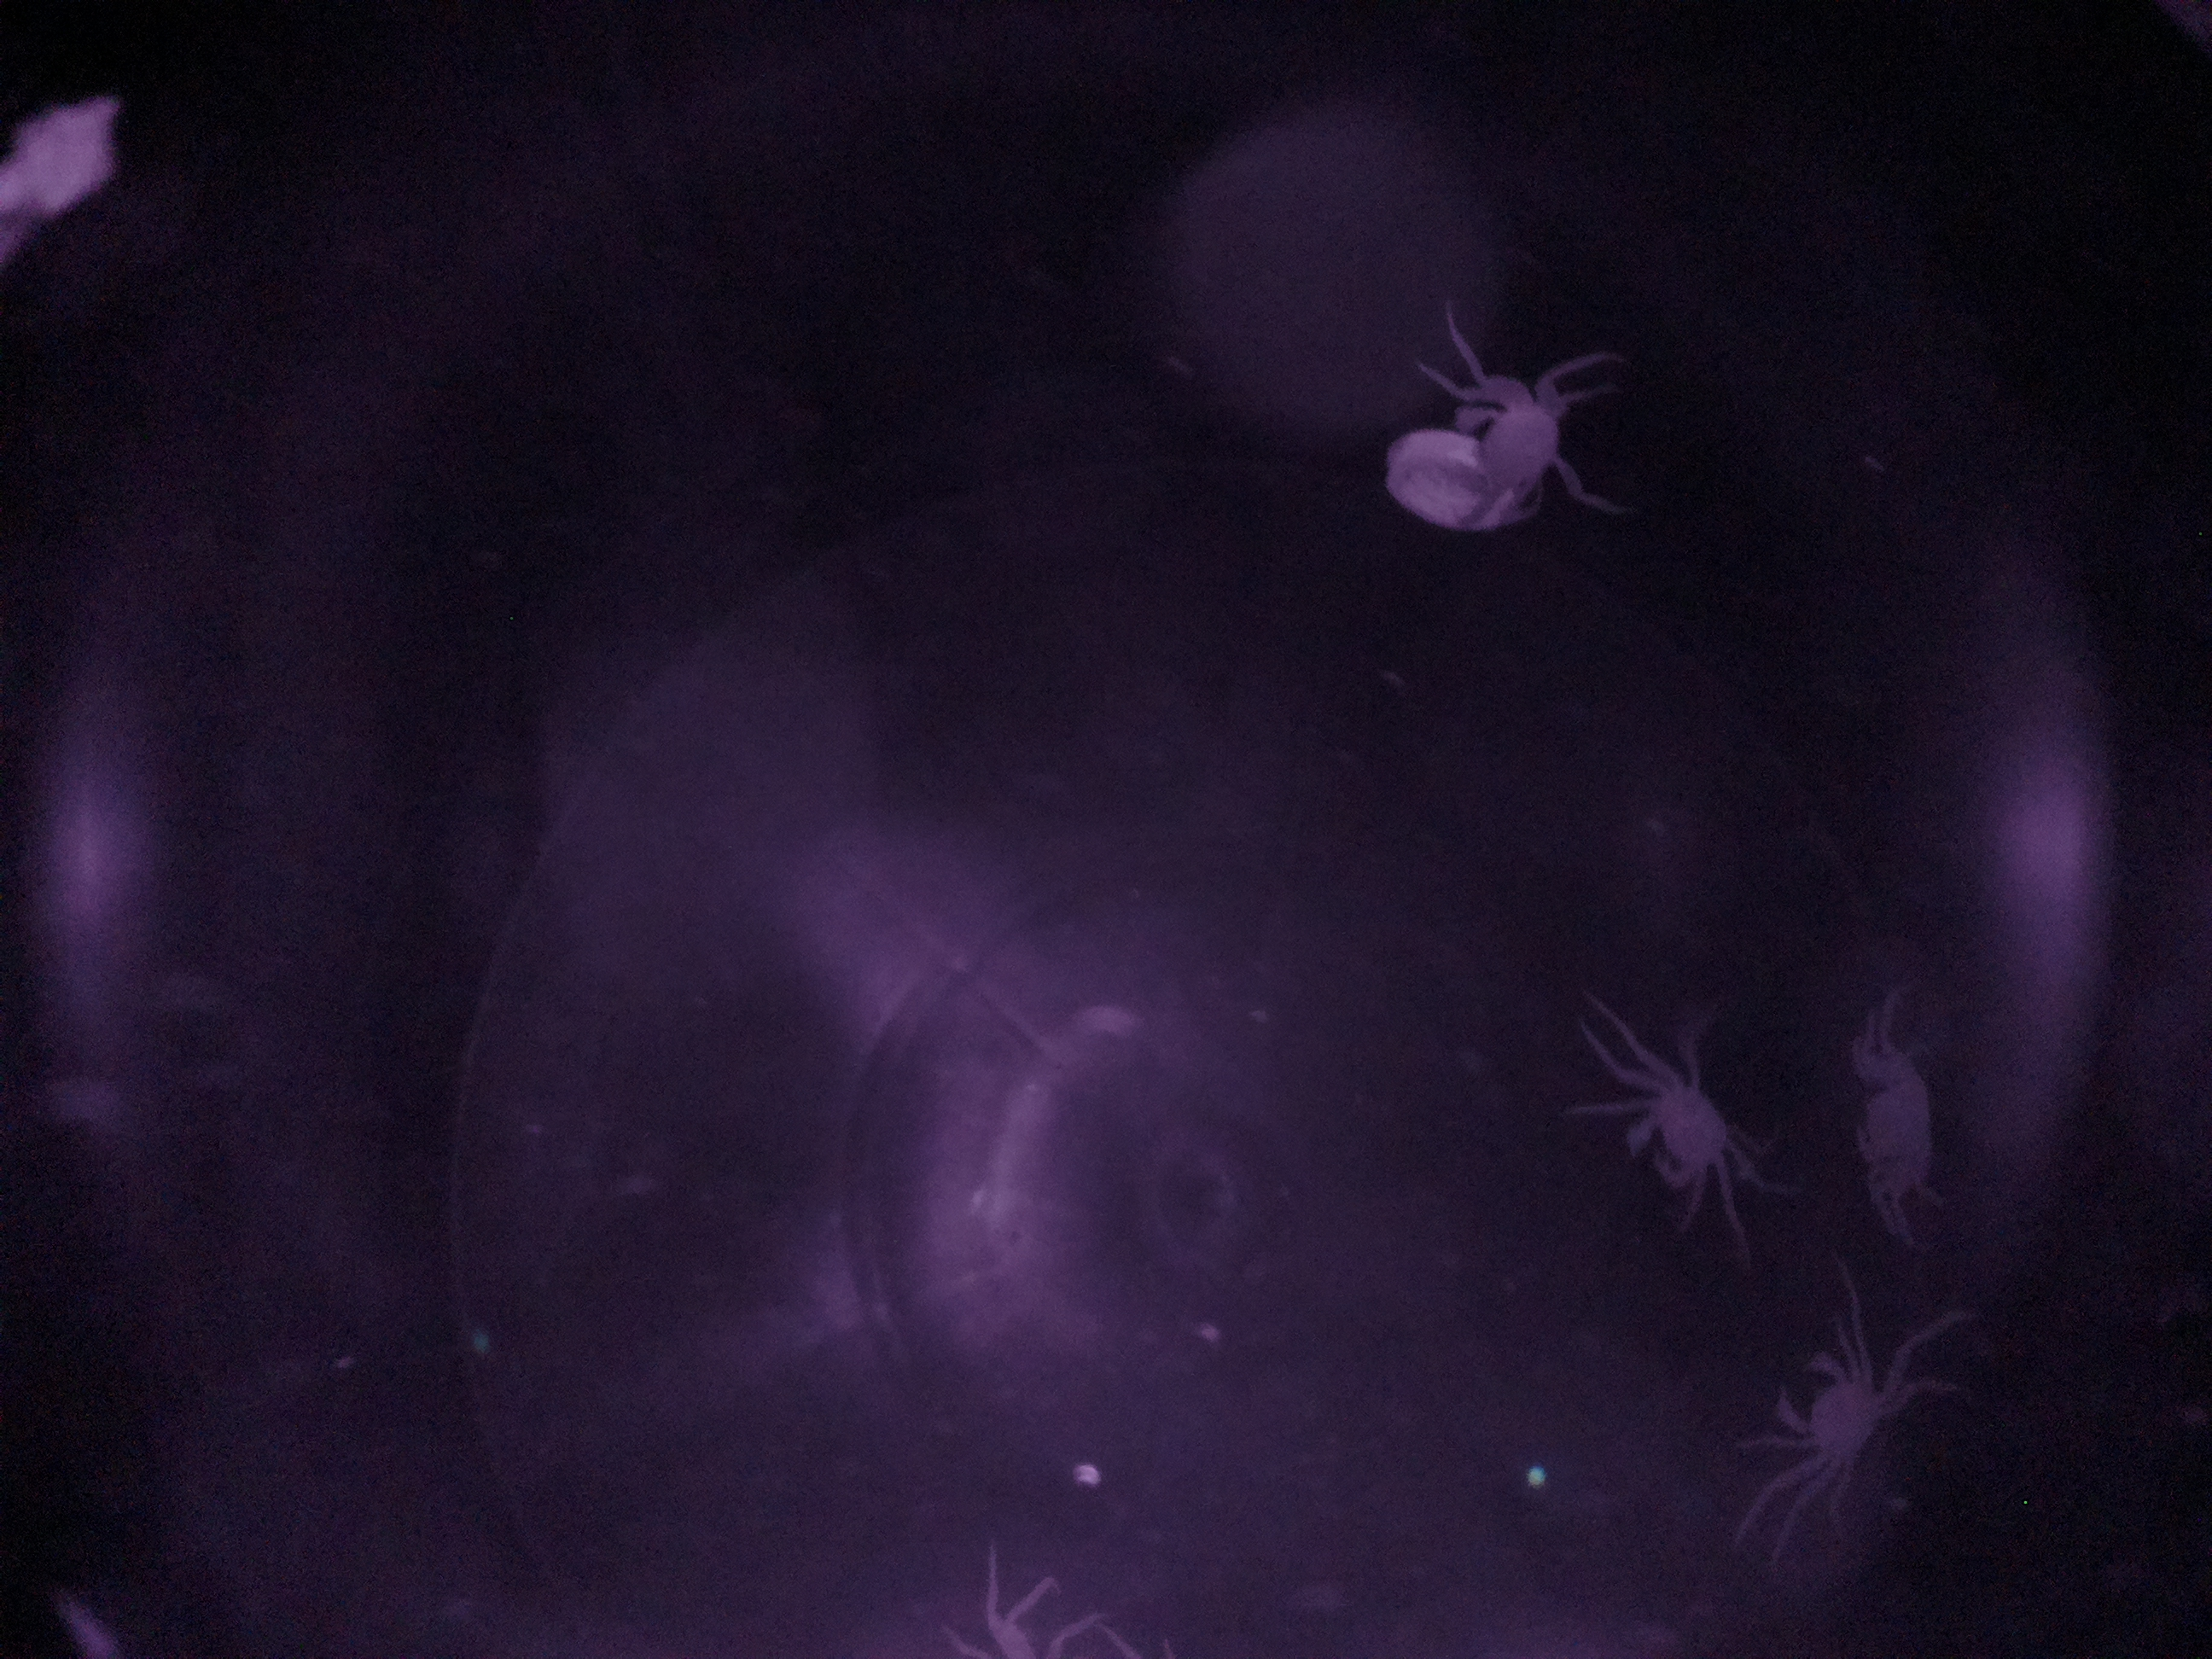Crab: (1592, 1053, 1743, 1215), (1773, 1328, 1919, 1490)
